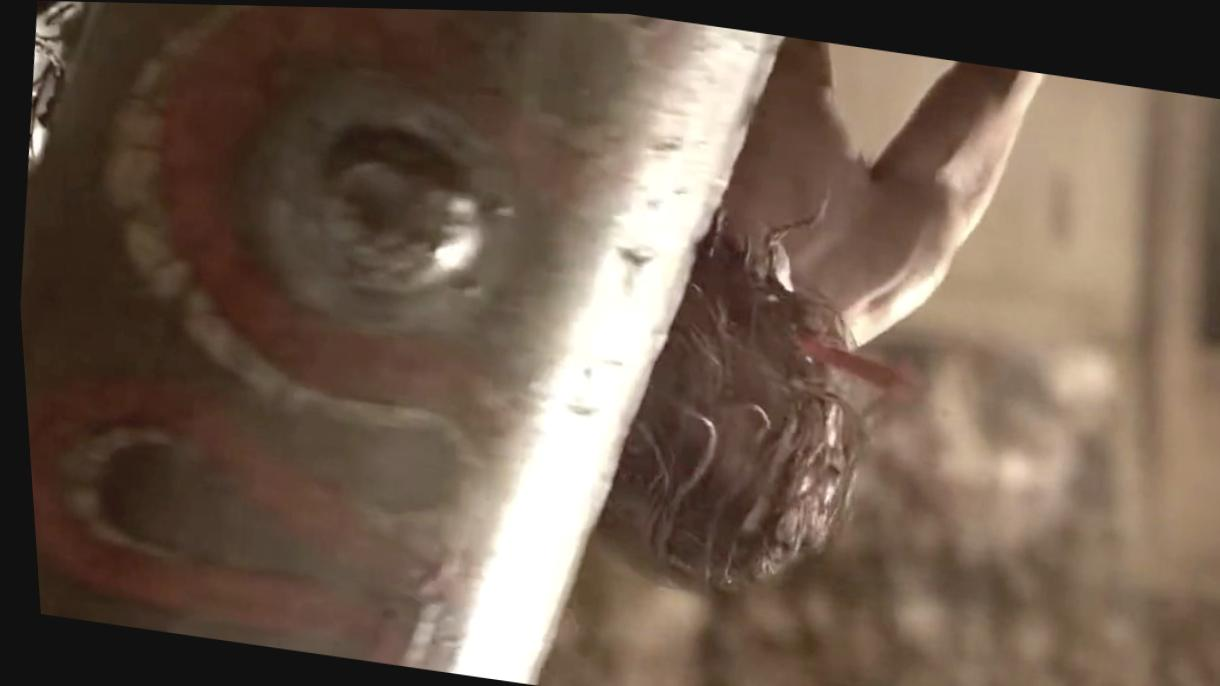Fire: (791, 326, 907, 396)
